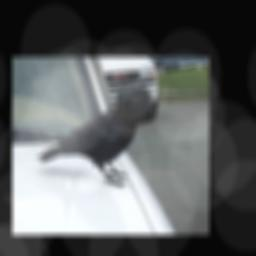Crow: (36, 94, 142, 188)
